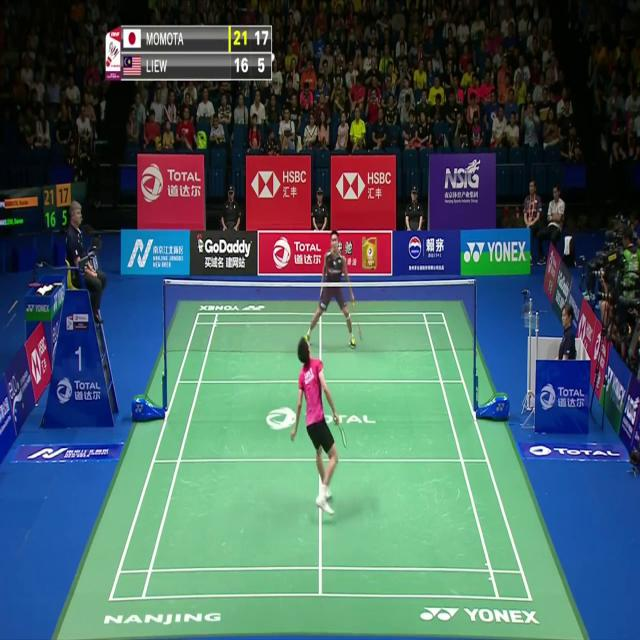Shuttlecock: (270, 48, 276, 60)
